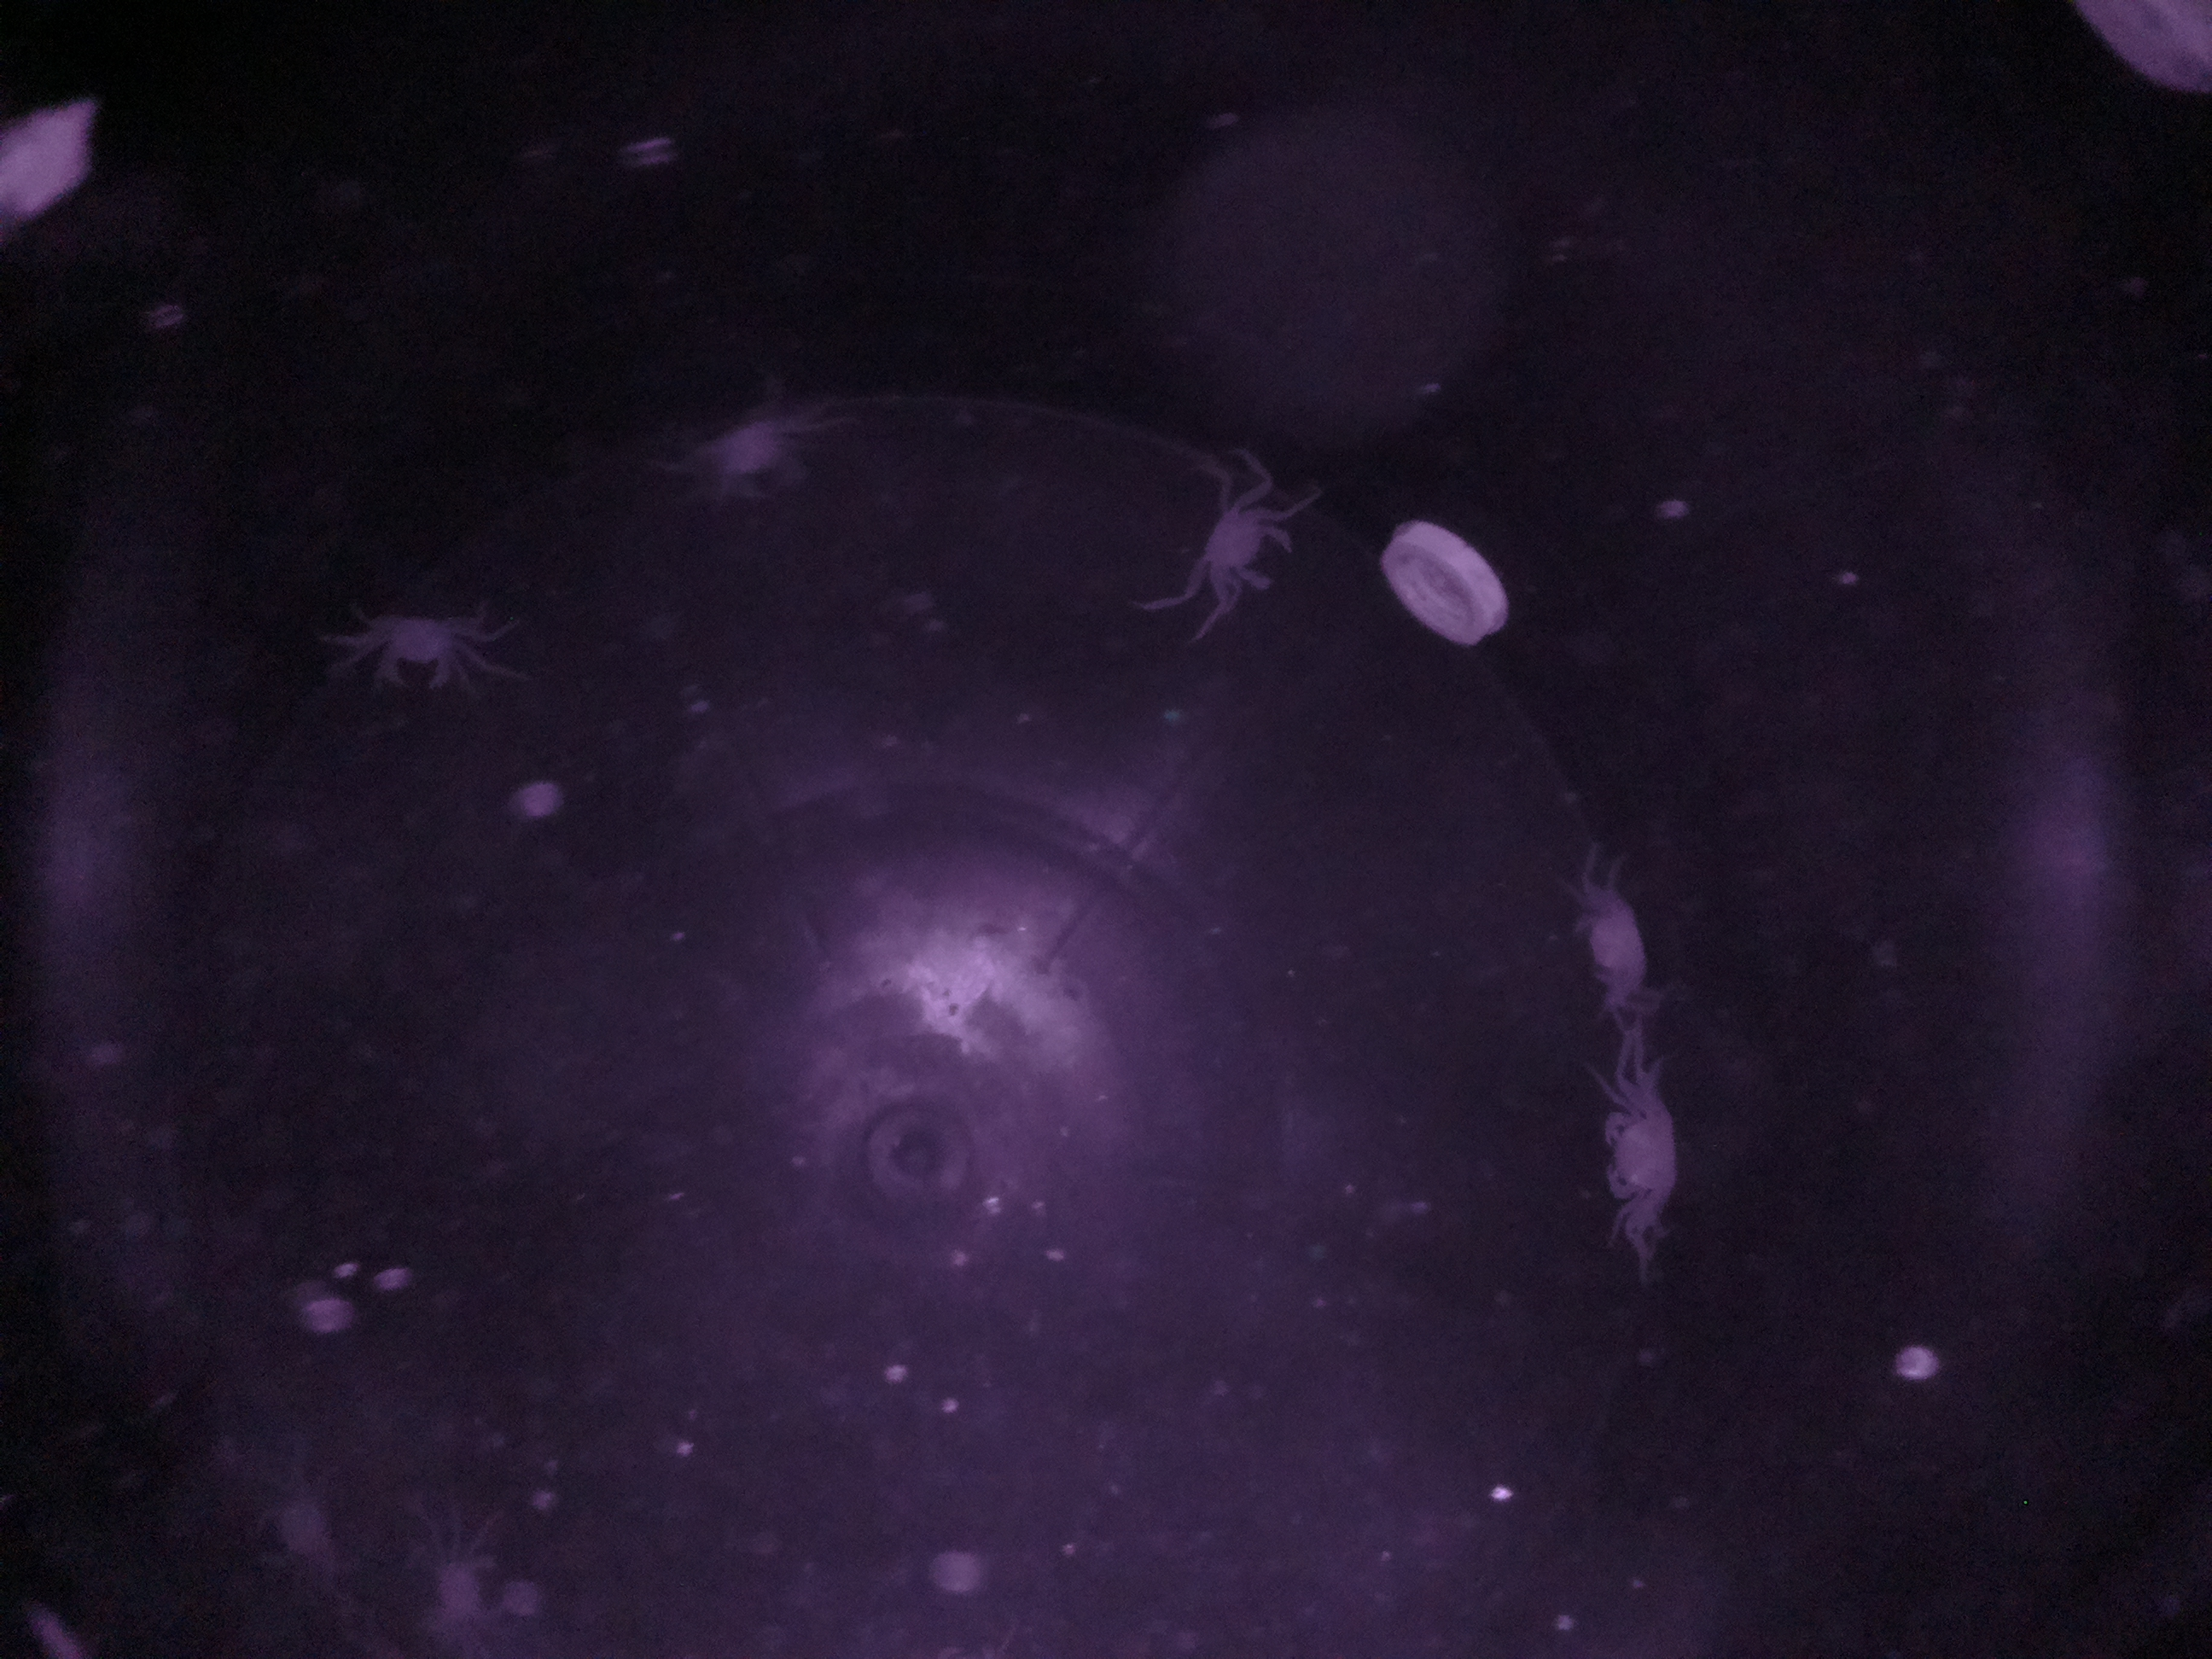Crab: (1190, 476, 1313, 617), (1588, 1079, 1700, 1227), (361, 592, 491, 706), (1555, 870, 1658, 997)
